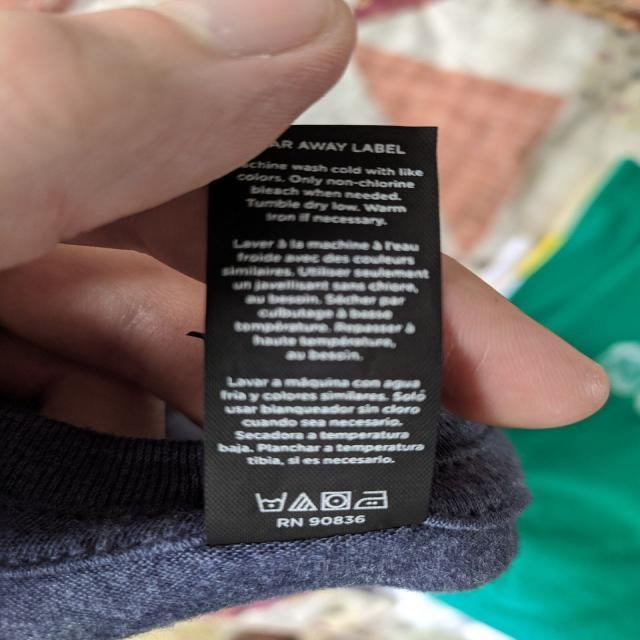30C: (256, 488, 287, 514)
iron_medium: (356, 489, 393, 514)
non_chlorine_bleach: (290, 492, 319, 514)
tumble_dry_low: (321, 490, 356, 515)
